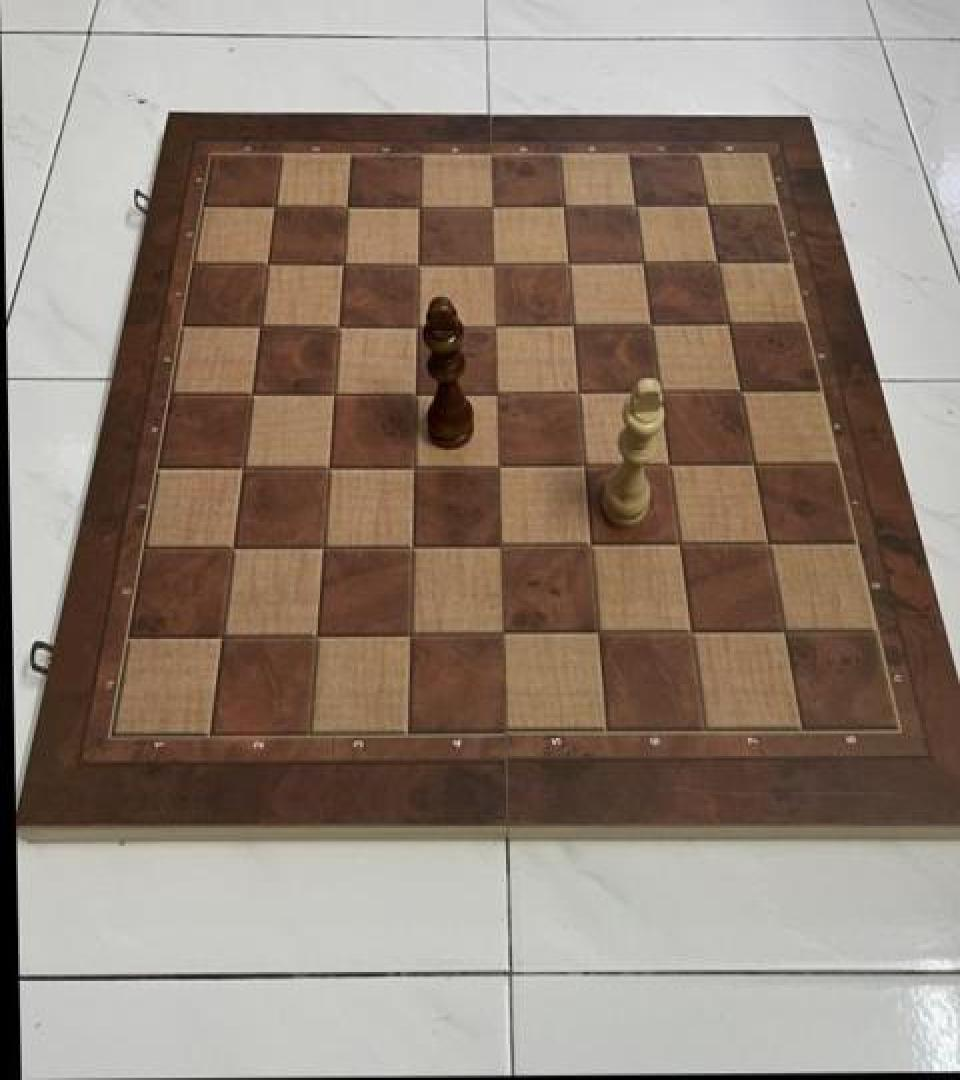xcorner: (579, 615, 611, 652), (485, 615, 517, 652), (392, 616, 424, 653), (299, 616, 331, 653), (206, 617, 238, 654), (544, 187, 576, 223), (472, 187, 504, 223), (400, 188, 432, 224), (328, 188, 360, 224), (256, 188, 288, 224), (699, 243, 731, 279), (624, 243, 656, 279), (549, 244, 581, 280), (474, 244, 506, 280), (399, 245, 431, 281), (324, 245, 356, 281), (249, 246, 281, 282), (710, 305, 742, 341), (632, 305, 664, 341), (554, 306, 586, 342), (476, 306, 508, 342), (398, 307, 430, 343), (320, 307, 352, 343), (242, 308, 274, 344), (722, 372, 754, 408), (640, 372, 672, 408), (559, 374, 591, 410), (478, 374, 510, 410), (396, 374, 428, 410), (315, 374, 347, 410), (234, 376, 266, 412), (650, 446, 682, 482), (565, 446, 597, 482), (480, 448, 512, 484), (395, 448, 427, 484), (310, 449, 342, 485), (225, 449, 257, 485), (750, 526, 782, 562), (660, 526, 692, 562), (571, 528, 603, 564), (483, 528, 515, 564), (394, 528, 426, 564), (305, 529, 337, 565), (216, 529, 248, 565), (765, 614, 797, 650), (672, 614, 704, 650), (688, 186, 720, 221), (616, 186, 648, 221), (735, 446, 767, 481)
